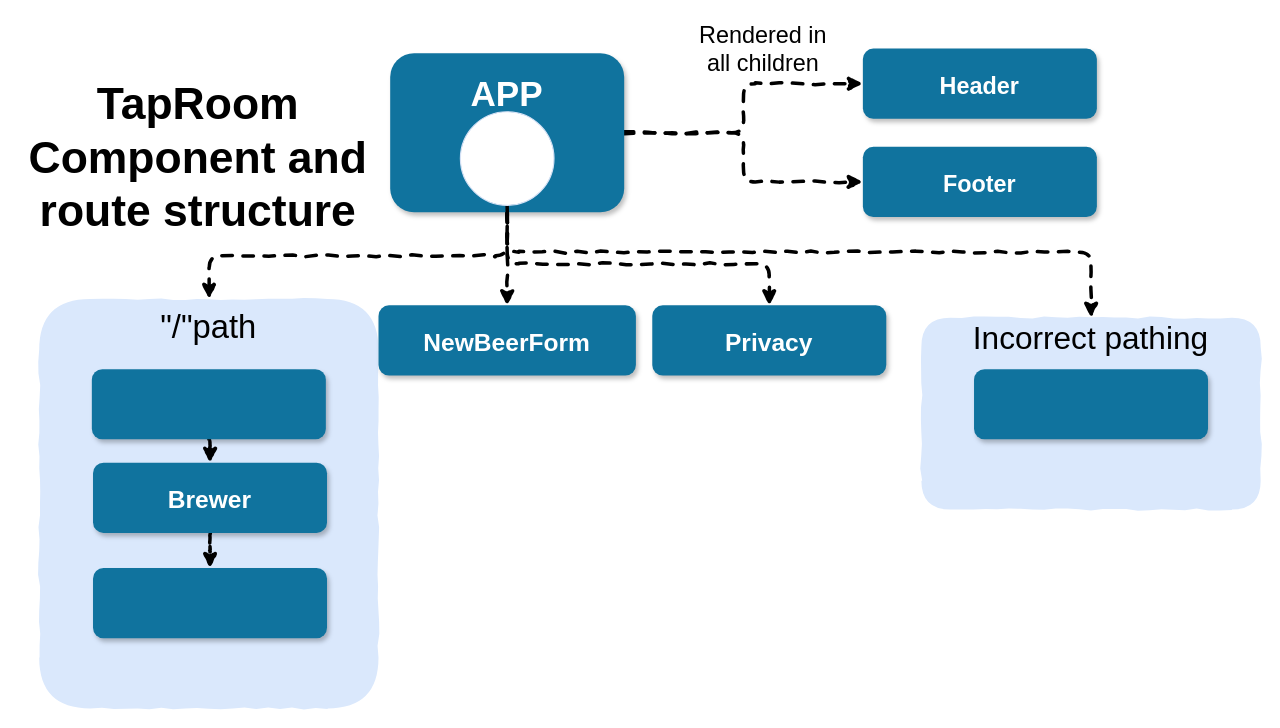
Image size: 1280x728. Some labels were removed from this diagram. The shapes that lost their labels are listed below. From the top down, each one's centre as x and y in pixels, then its label:
At pixel 506 158: "Routes".
At pixel 209 405: "BrewerList".
At pixel 1091 405: "Error404".
At pixel 210 604: "Beer".
